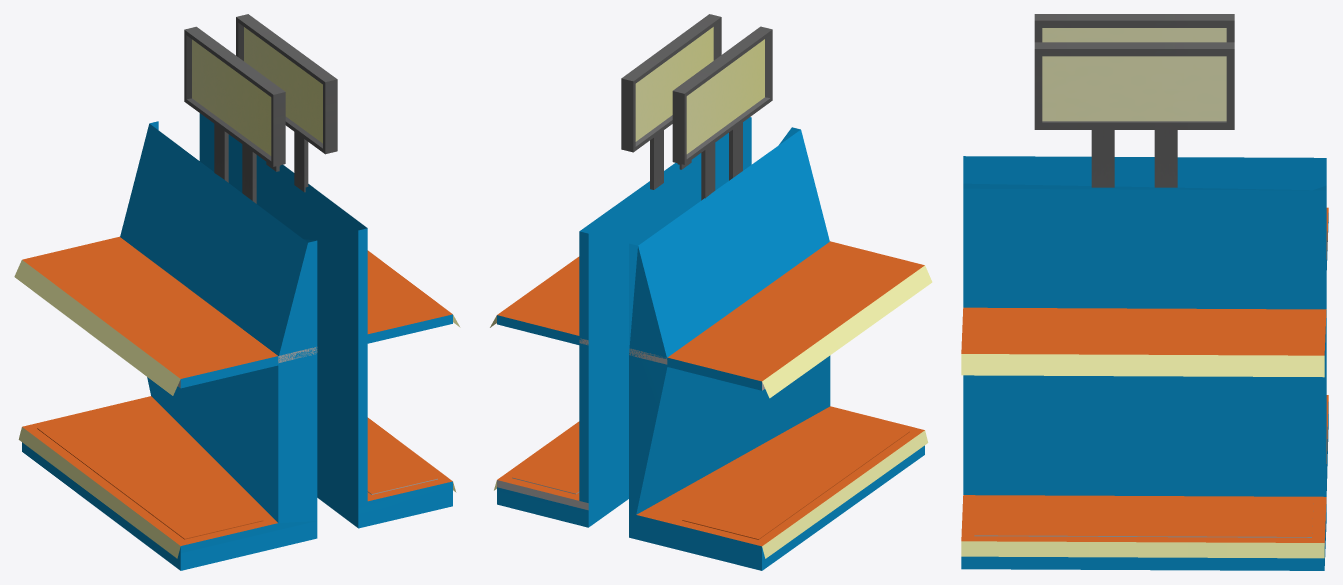
The model's file is Shelf.fbx.
The picture shows the model from 3 angles, left to right: view 1: azimuth 30°, elevation 25°; view 2: azimuth 150°, elevation 25°; view 3: azimuth 270°, elevation 25°; orthographic projection. The views are drawn at different scales.
Visible parts, largest first — view 1: SM_Beverage_Shelf.001, SM_Beverage_Shelf; view 2: SM_Beverage_Shelf.001, SM_Beverage_Shelf; view 3: SM_Beverage_Shelf, SM_Beverage_Shelf.001.
Part boxes in pixels (x1,y1,x2,y2): SM_Beverage_Shelf.001: (14,26,317,570); SM_Beverage_Shelf: (199,14,460,528); SM_Beverage_Shelf.001: (629,26,932,570); SM_Beverage_Shelf: (490,14,751,527); SM_Beverage_Shelf: (961,42,1326,570); SM_Beverage_Shelf.001: (963,14,1328,490).
Size of the model in its own units: 259 by 363 by 255.
